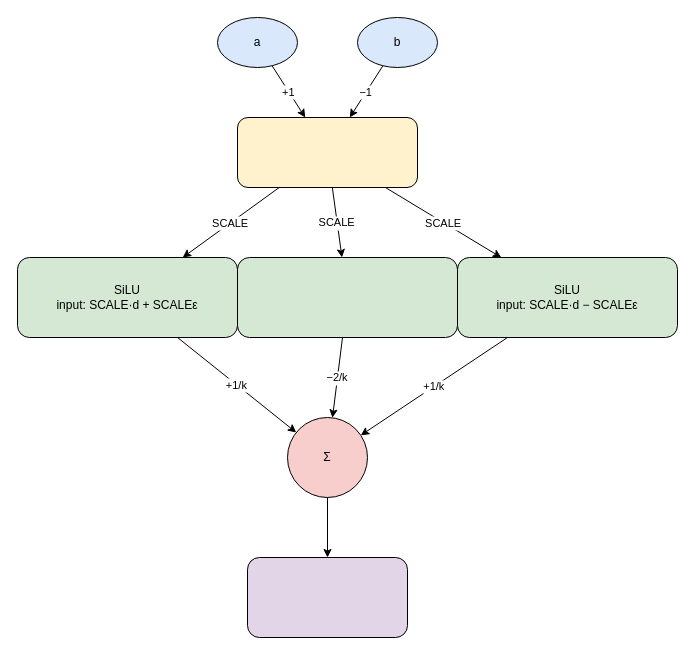
The diagram is 695 pixels wide and 655 high, and some of its shapes have lost their labels. The shapes that lost their labels are listed below. From the top down, each one's centre as x and y in pixels, then its label:
At (327,152): "difference d = a − b".
At (347,297): "SiLU input: SCALE·d".
At (327,597): "Zero Indicator ≈1 if a ≈ b ≈0 otherwise".
